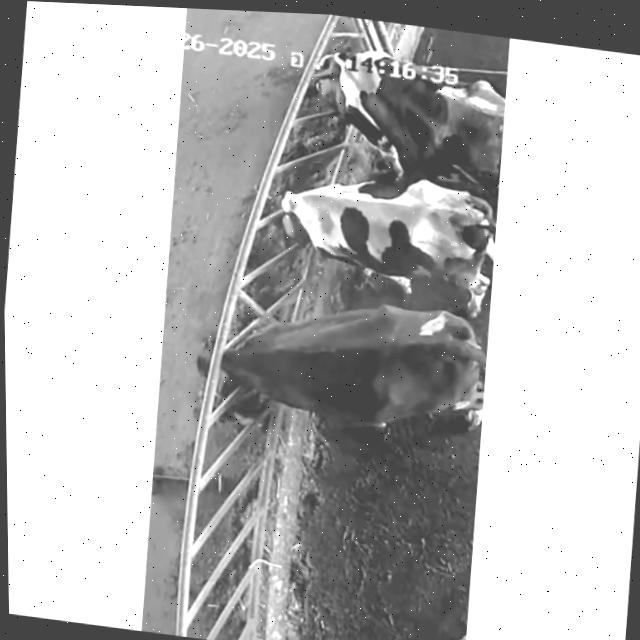eat: (189, 149, 372, 272), (238, 22, 415, 136), (156, 305, 328, 418)
